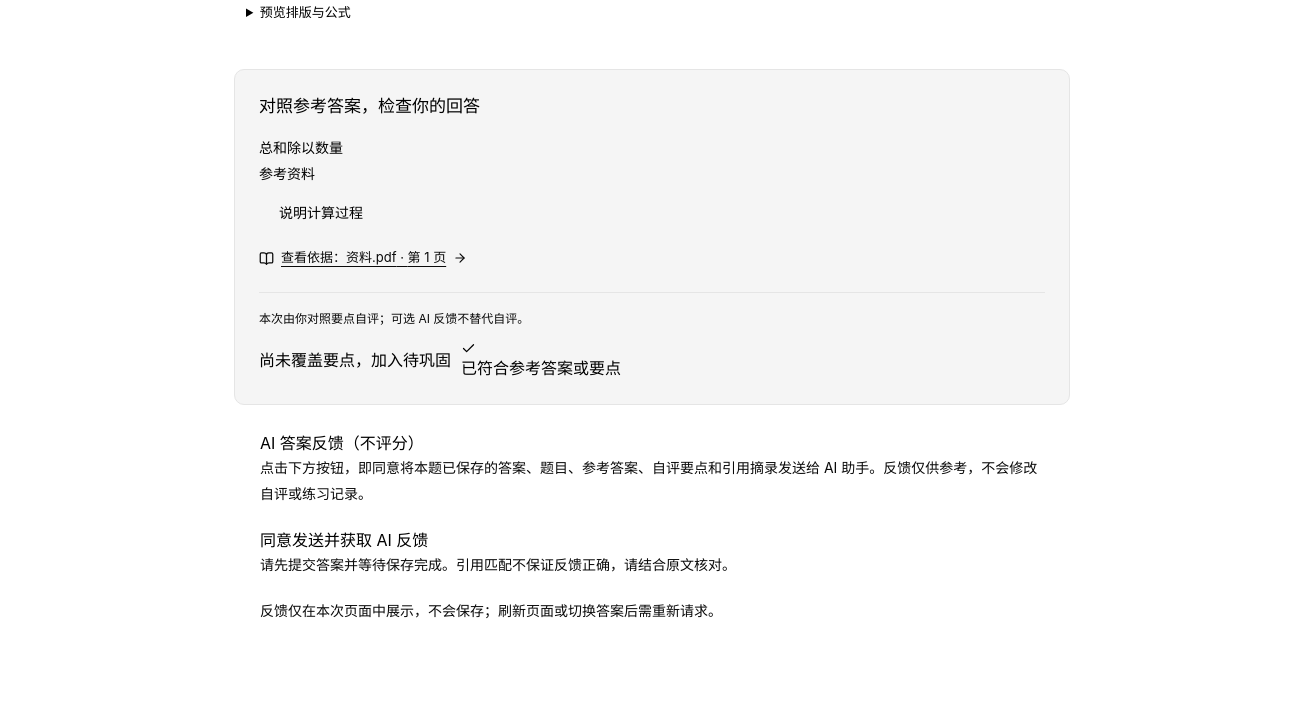
Scenario: retries a failed save explicitly with the same revision and retains the self-assessment: network
The width and height of the screenshot is (1304, 714).
(page scrolled)
Click the button "已符合参考答案或要点" at (541, 360), box [461, 341, 621, 380]
Wait 5350 ms
(page scrolled)
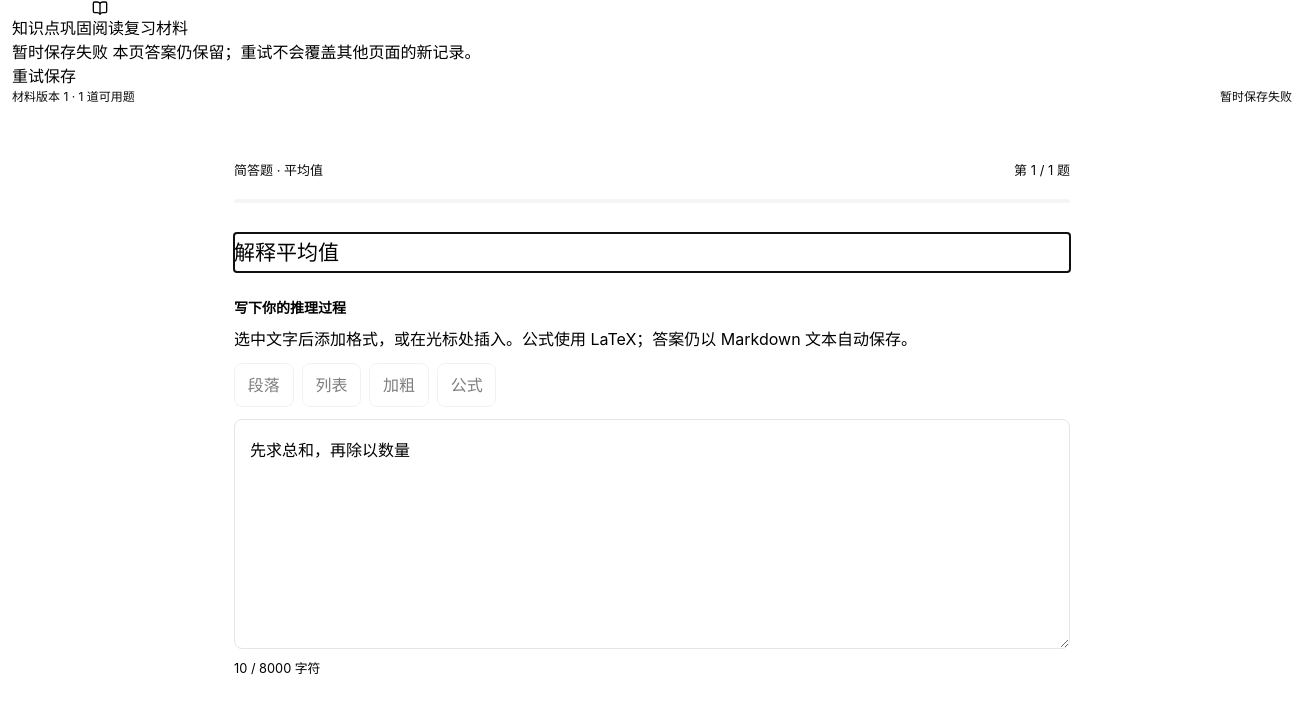
Expected: the text "暂时保存失败" is shown, [12, 42, 108, 62]
Click the button "重试保存" at (44, 76), box [12, 64, 76, 88]
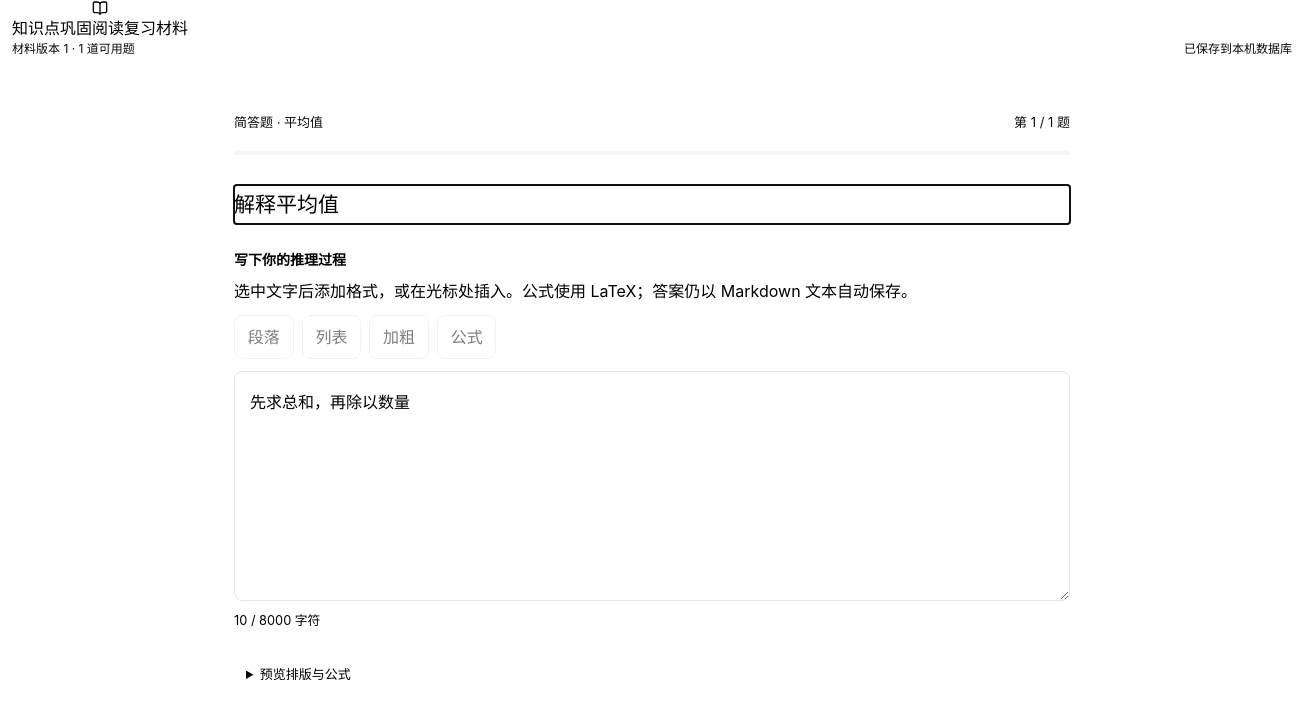
Expected: the text "已保存到本机数据库" is shown, [1184, 40, 1292, 58]
Expected: the text "暂时保存失败" is gone
